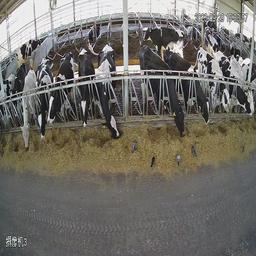cow: (142, 47, 185, 137), (95, 44, 121, 138), (48, 52, 74, 127), (185, 57, 210, 132), (205, 46, 232, 110), (77, 47, 92, 129), (22, 68, 37, 148), (233, 60, 252, 123), (141, 24, 186, 48), (37, 55, 47, 139), (15, 35, 41, 65), (87, 21, 100, 42)
